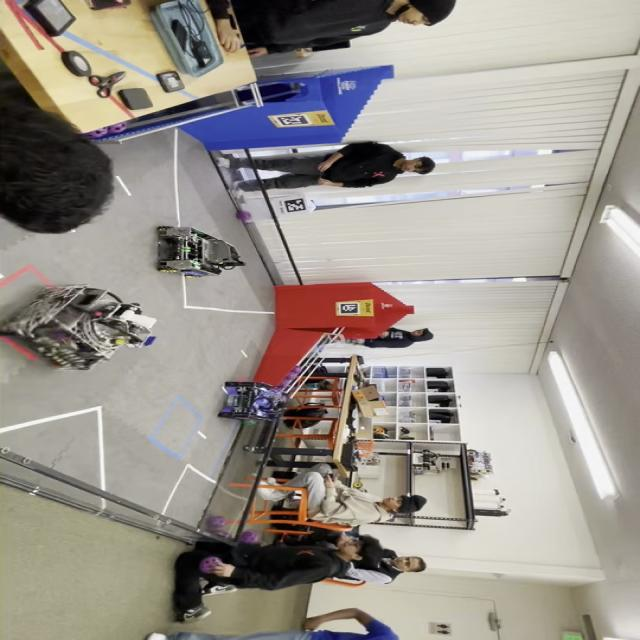artifact_green: (206, 516, 226, 531)
artifact_purple: (200, 556, 222, 573), (207, 516, 226, 530), (240, 531, 260, 544), (86, 128, 109, 139), (108, 122, 126, 134), (236, 211, 252, 221), (215, 531, 233, 538), (93, 312, 103, 317)
